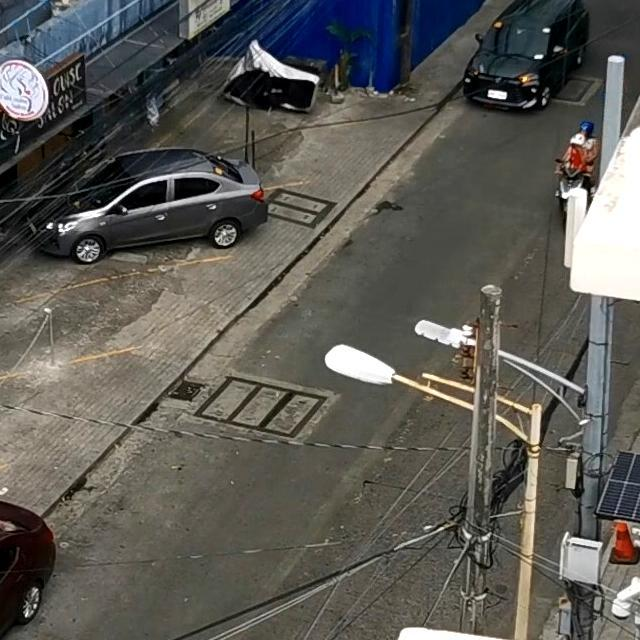Motorcycle: (540, 112, 604, 228)
